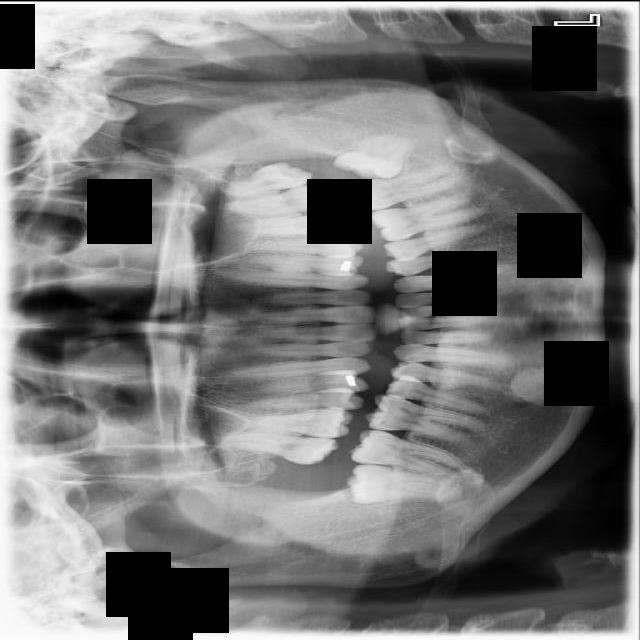52: (314, 367, 370, 395), (316, 253, 364, 275)
73: (534, 44, 558, 48)
BioHorizons Implant: (217, 181, 338, 221)
BioLife Implant: (208, 155, 315, 203)
Biomet 3i Implant: (332, 130, 414, 179)
Blue Sky Bio Implant: (345, 162, 463, 214)
Caries: (206, 425, 341, 467)
Implant: (347, 424, 478, 482)
Keystone Dental Implant: (346, 458, 460, 504)
